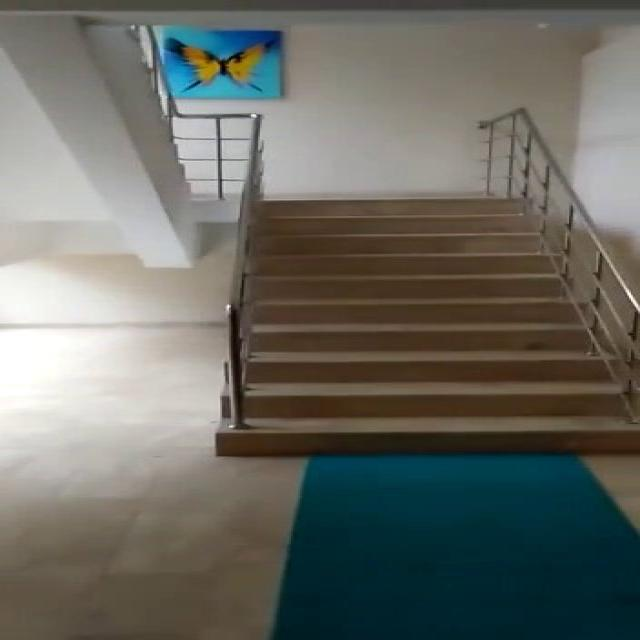stair: (206, 187, 640, 459)
